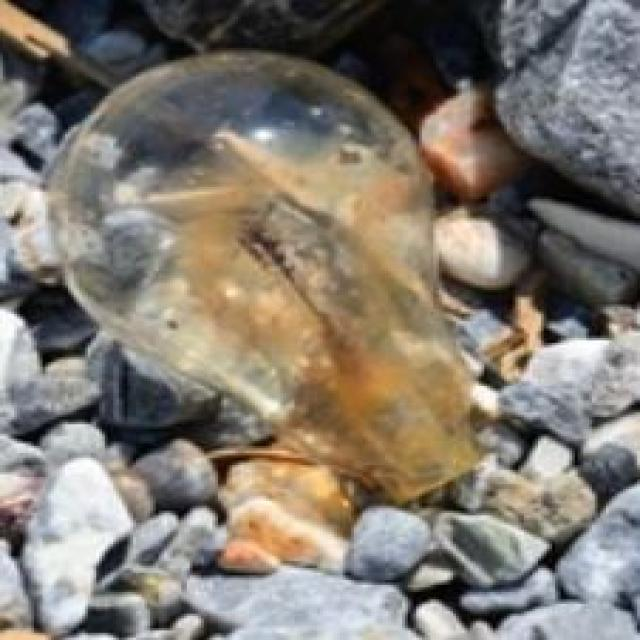electronic: (31, 46, 490, 506)
